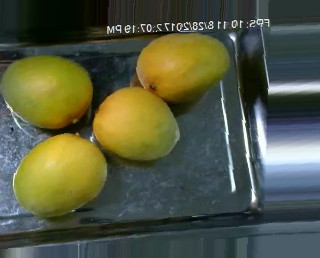Mango: (11, 130, 113, 221), (134, 31, 236, 105), (92, 83, 186, 162), (0, 55, 94, 131)
